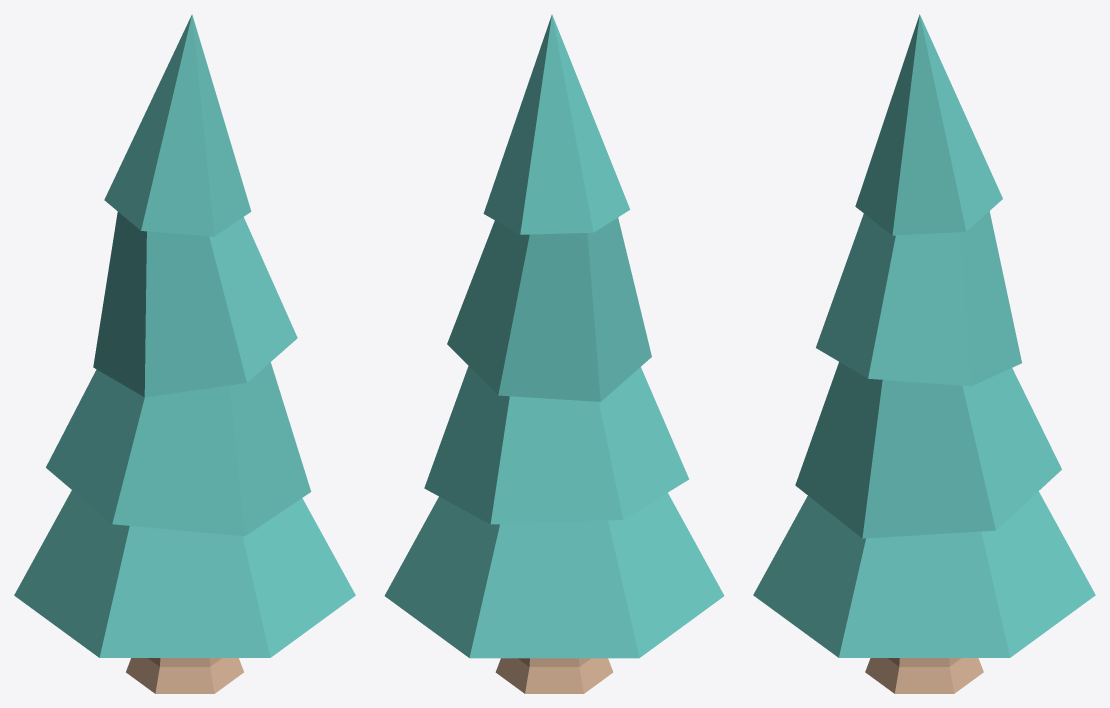
File: treePine.glb
The picture shows the model from 3 angles, left to right: view 1: azimuth 30°, elevation 25°; view 2: azimuth 150°, elevation 25°; view 3: azimuth 270°, elevation 25°; orthographic projection.
Visible parts, largest first — view 1: treePine(Clone); view 2: treePine(Clone); view 3: treePine(Clone).
Part boxes in pixels (left/top/right/bottom): treePine(Clone): left=14, top=14, right=355, bottom=693; treePine(Clone): left=384, top=14, right=724, bottom=693; treePine(Clone): left=753, top=14, right=1095, bottom=693.
Bounding box in the file's own units: 0.651 × 1.6 × 0.7517.
